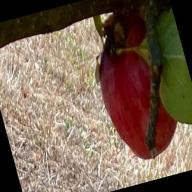Apples: (84, 12, 186, 166)
